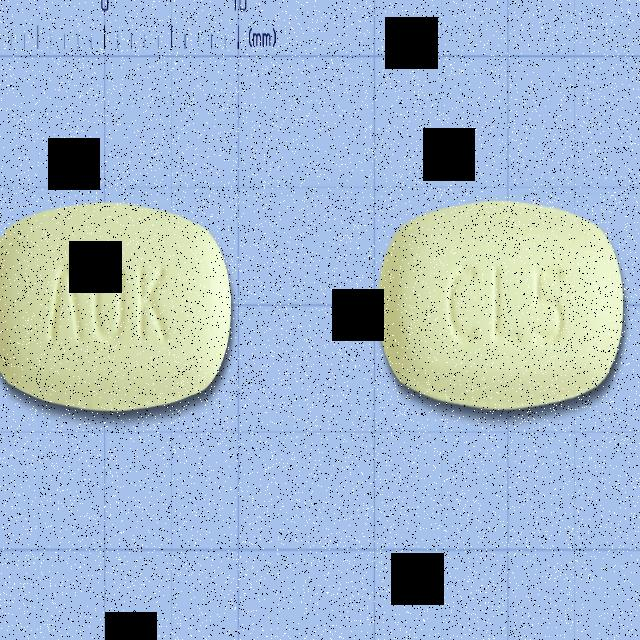Auscle: (0, 196, 235, 424)
